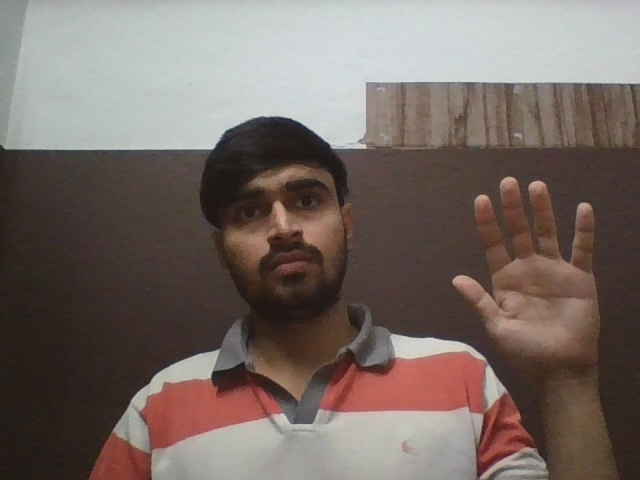Hello: (451, 175, 601, 370)
